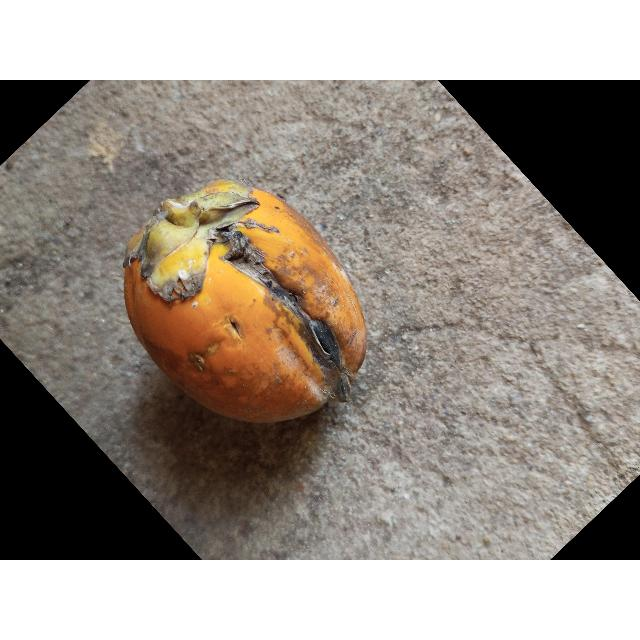damaged: (124, 179, 366, 422)
